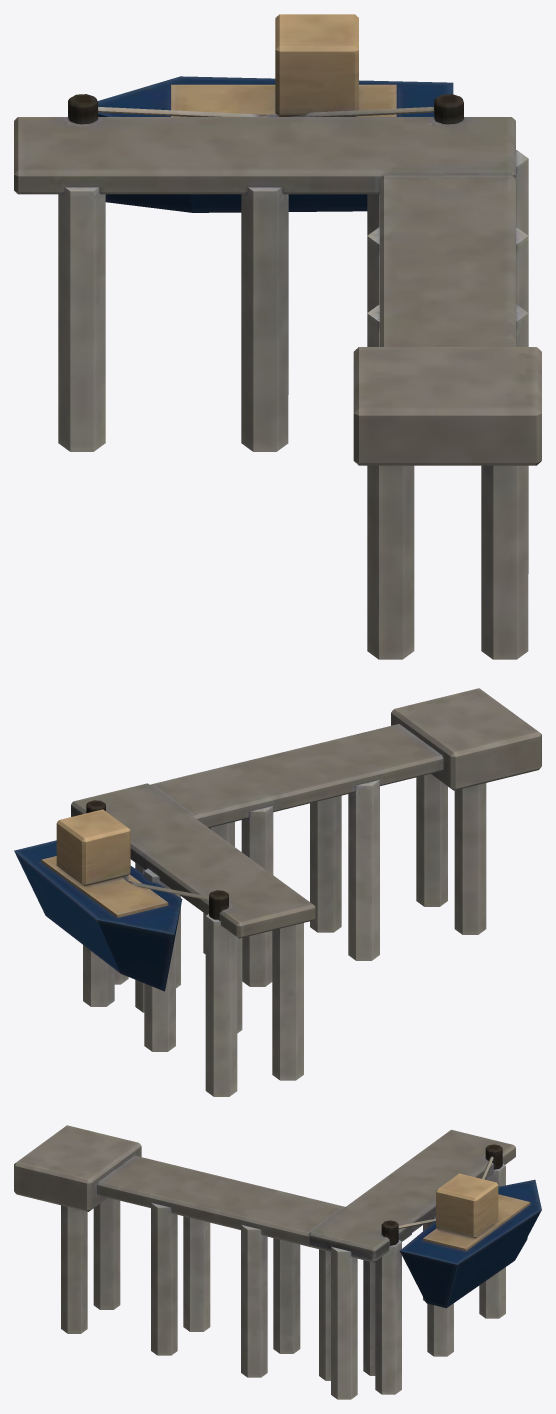
The model's file is harbor-pier-10.glb.
The picture shows the model from 3 angles, top to bottom: view 1: azimuth 30°, elevation 25°; view 2: azimuth 150°, elevation 25°; view 3: azimuth 270°, elevation 25°; orthographic projection. The views are drawn at different scales.
Parts seen in each view (by area): view 1: harbor-pier-10; view 2: harbor-pier-10; view 3: harbor-pier-10.
Boxes of the visible parts, x1,y1,x2,y2 form: harbor-pier-10: (14,14,541,659); harbor-pier-10: (14,688,541,1096); harbor-pier-10: (14,1125,541,1399).
Bounding box in the file's own units: 0.9794 × 0.695 × 1.78.
Materials: 1 (1 with a texture image).
